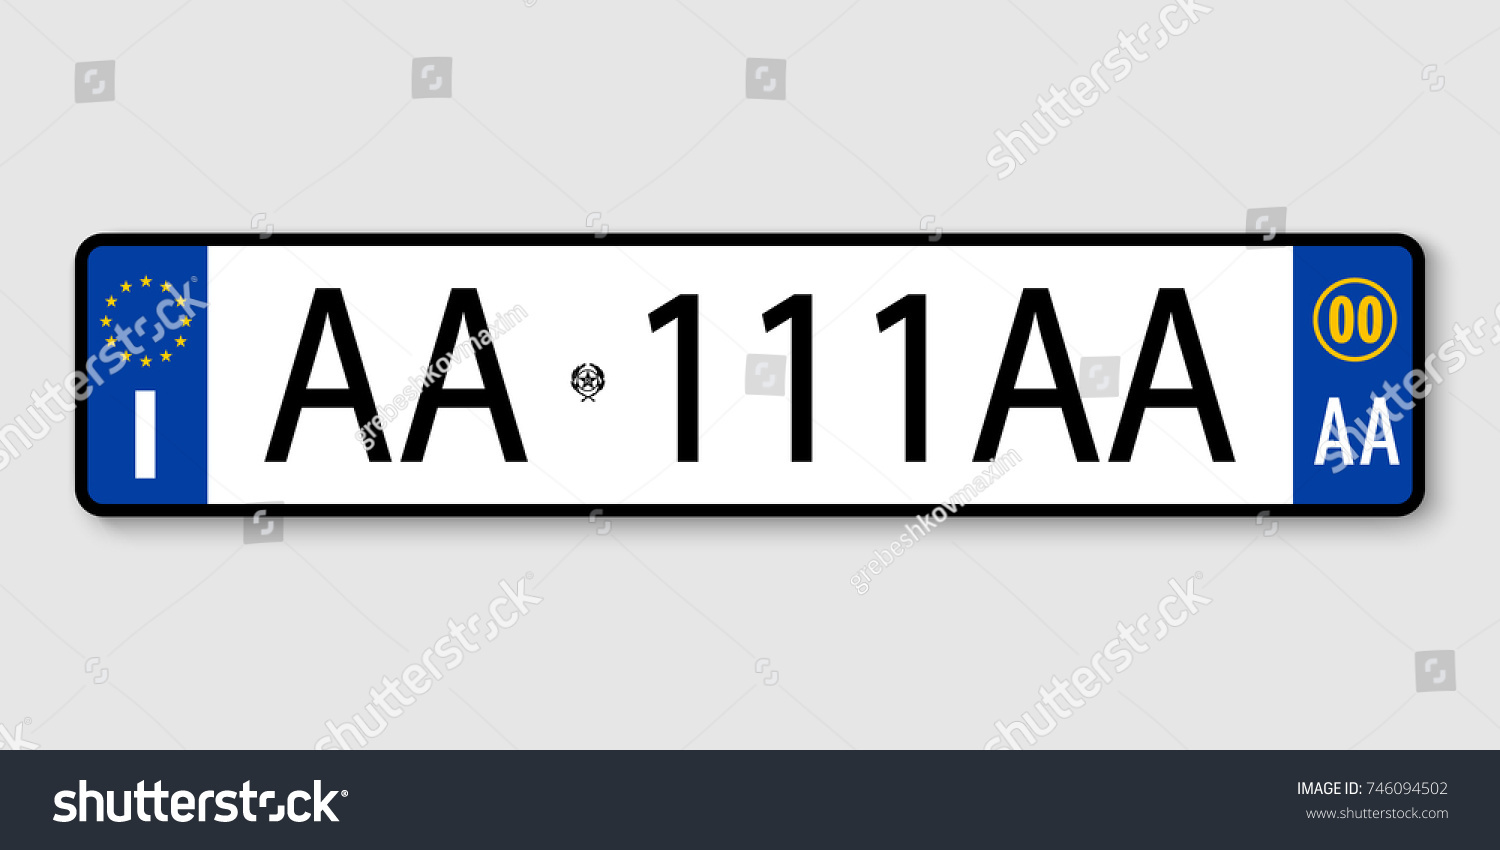number_plate: (73, 228, 1429, 523)
